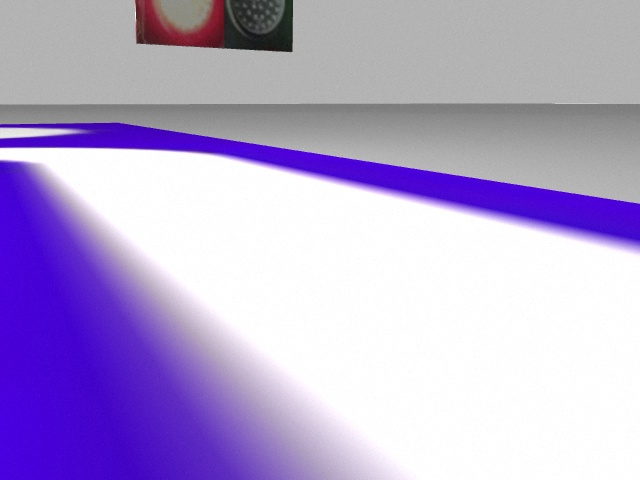red: (136, 1, 224, 49)
